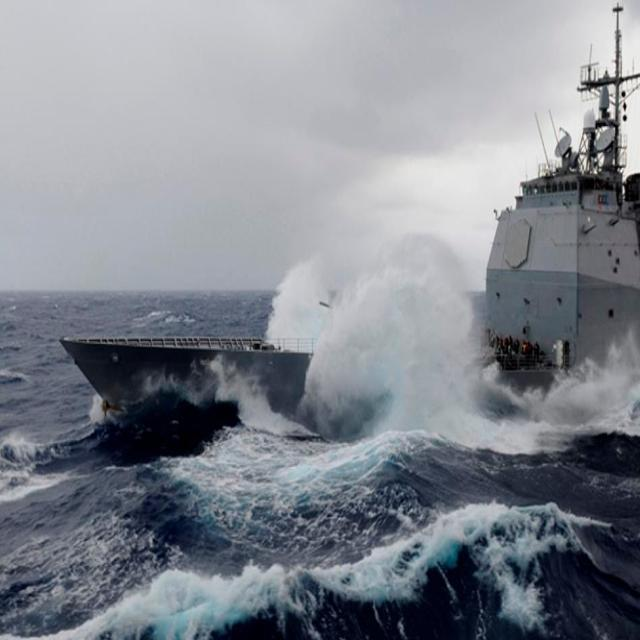navalvessels: (37, 42, 640, 471)
